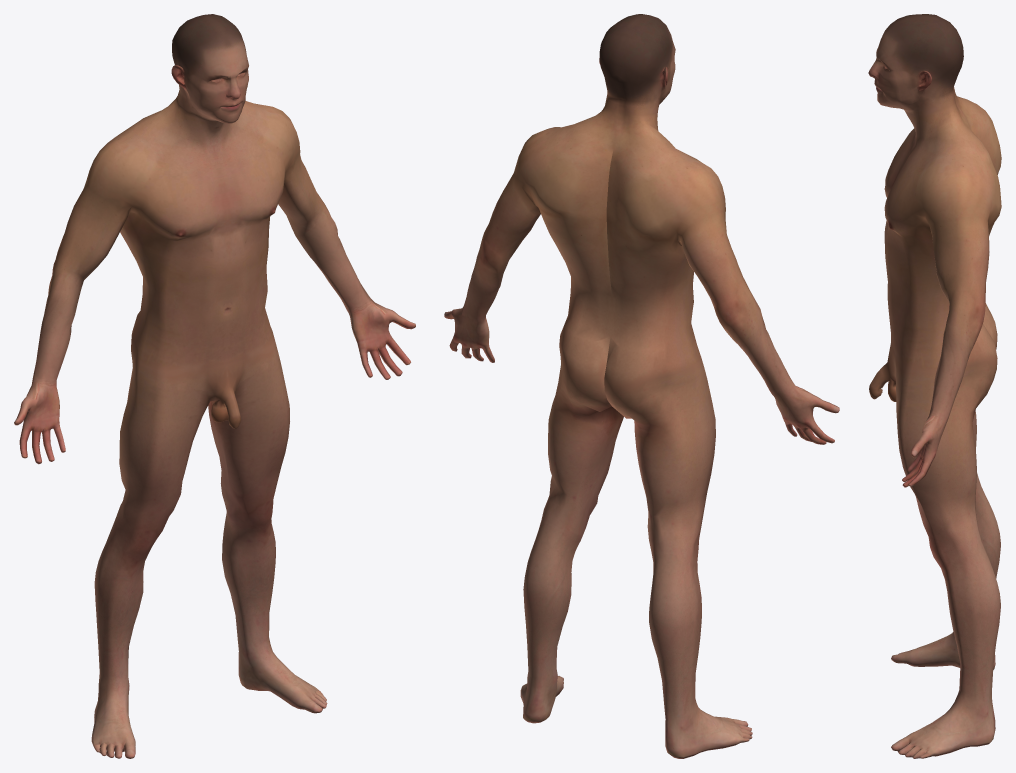
Rendered from Default body pose.fbx.
The picture shows the model from 3 angles, left to right: view 1: azimuth 30°, elevation 25°; view 2: azimuth 150°, elevation 25°; view 3: azimuth 270°, elevation 25°; orthographic projection. The views are drawn at different scales.
Visible parts, largest first — view 1: body; view 2: body; view 3: body.
Boxes of the visible parts, x1,y1,x2,y2 form: body: (14,14,415,758); body: (444,14,839,758); body: (868,14,1001,758).
Size of the model in its own units: 10.96 by 18.48 by 3.23.
Materials: 1 (1 with a texture image).
